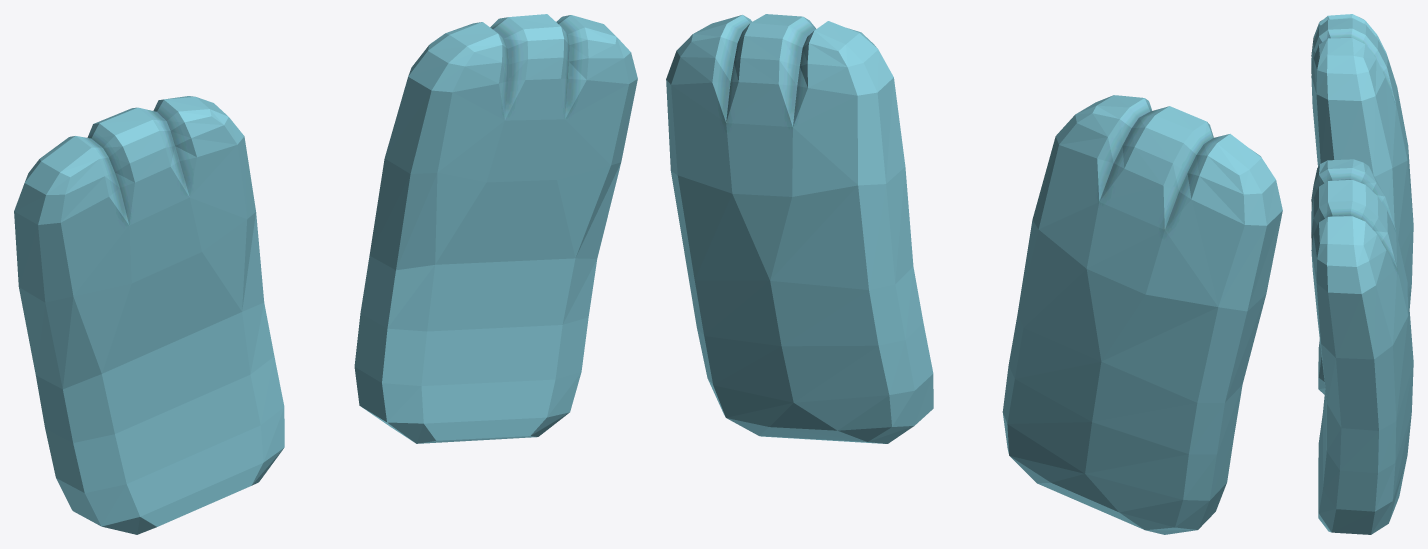
The model's file is BR_Quagsire-Shiny02.obj.
3 views of the same model, side by side, from view 1: azimuth 30°, elevation 25°; view 2: azimuth 150°, elevation 25°; view 3: azimuth 270°, elevation 25° (orthographic). The views are drawn at different scales.
Visible parts, largest first — view 1: nuoh; view 2: nuoh; view 3: nuoh.
Part boxes in pixels (x1,y1,x2,y2): nuoh: (14, 14, 637, 534); nuoh: (666, 14, 1282, 534); nuoh: (1311, 14, 1413, 534).
Bounding box in the file's own units: 7.35 × 4.8 × 1.28.
1 material, 1 textured.
